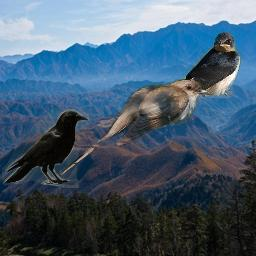Crow: (2, 108, 89, 188)
Cuckoo: (60, 78, 212, 176)
Swallow: (152, 32, 241, 103)
